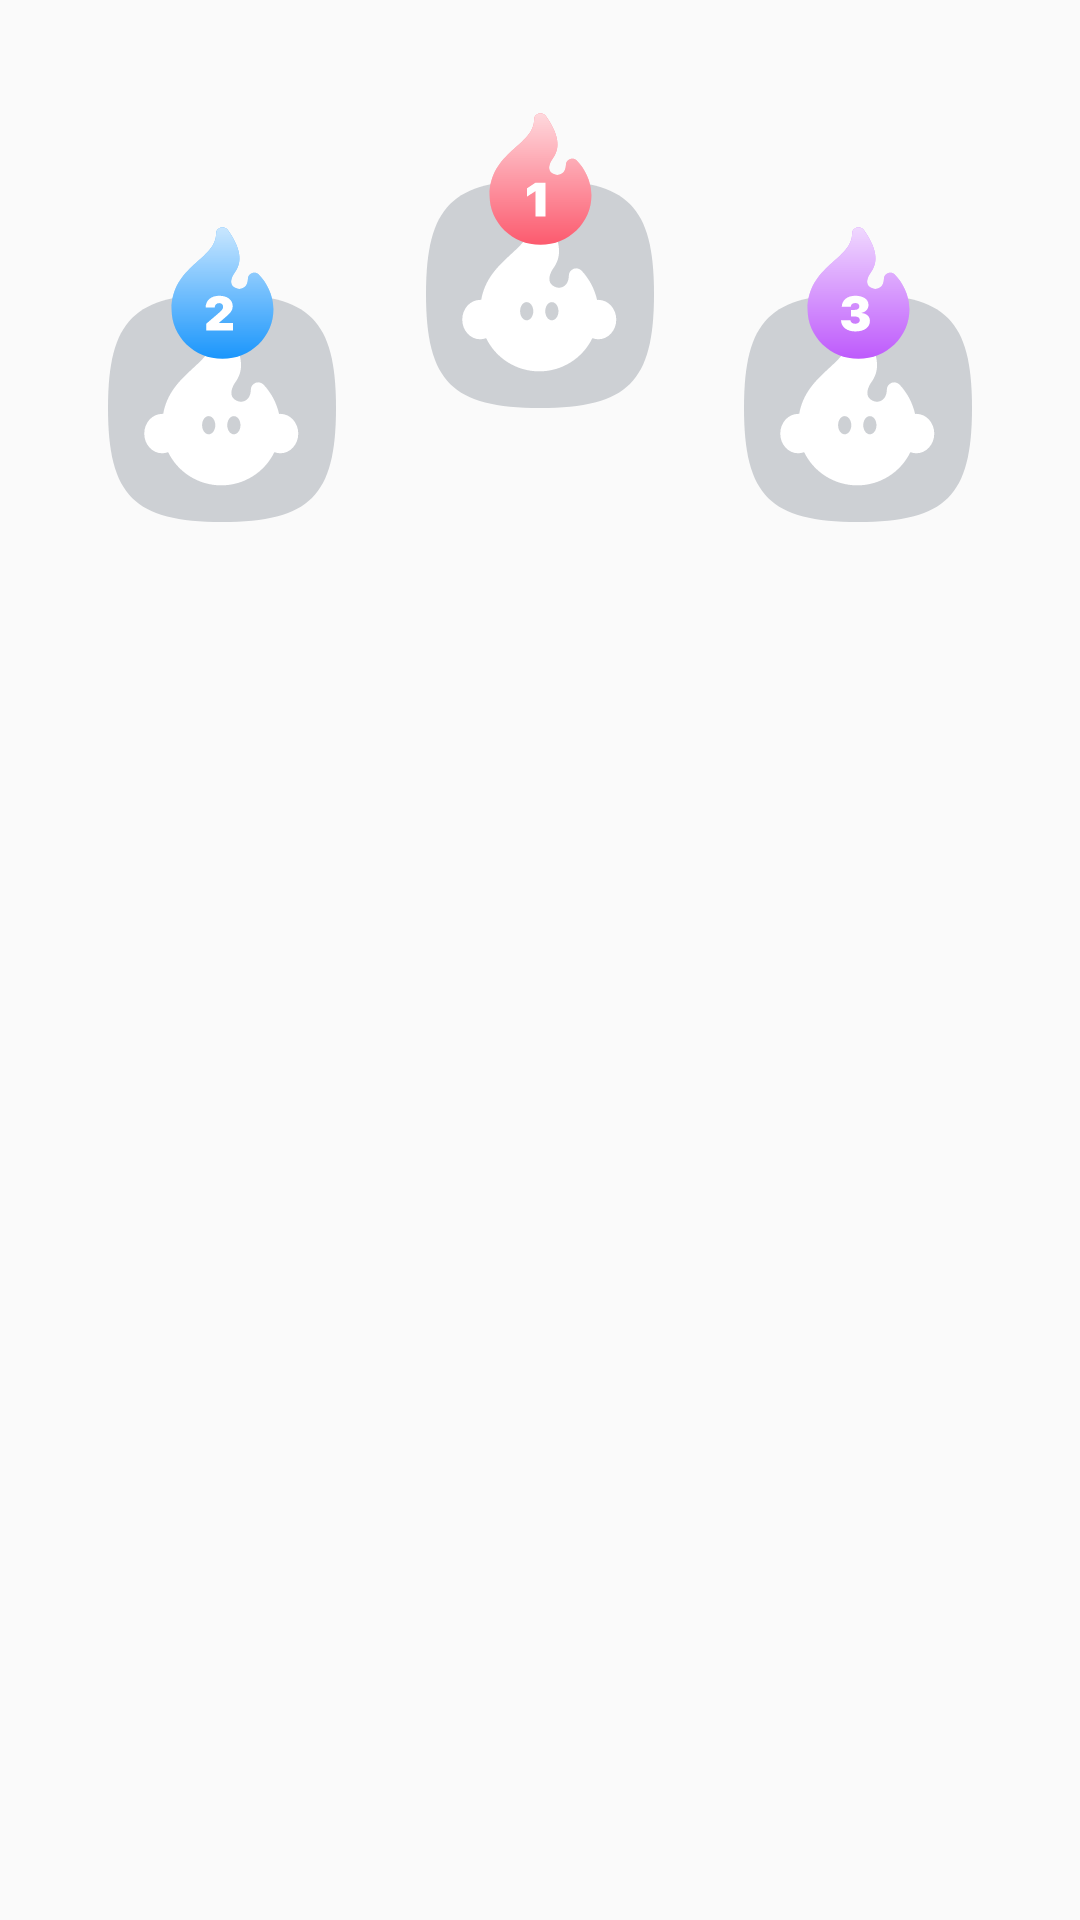

Where to tap for icons on this 1080 x 1920 app screen, as point (x, y):
profile: point (540, 294), point (222, 408), point (858, 408)
rank nd: point (222, 296)
rank rd: point (858, 296)
rank st: point (540, 182)
